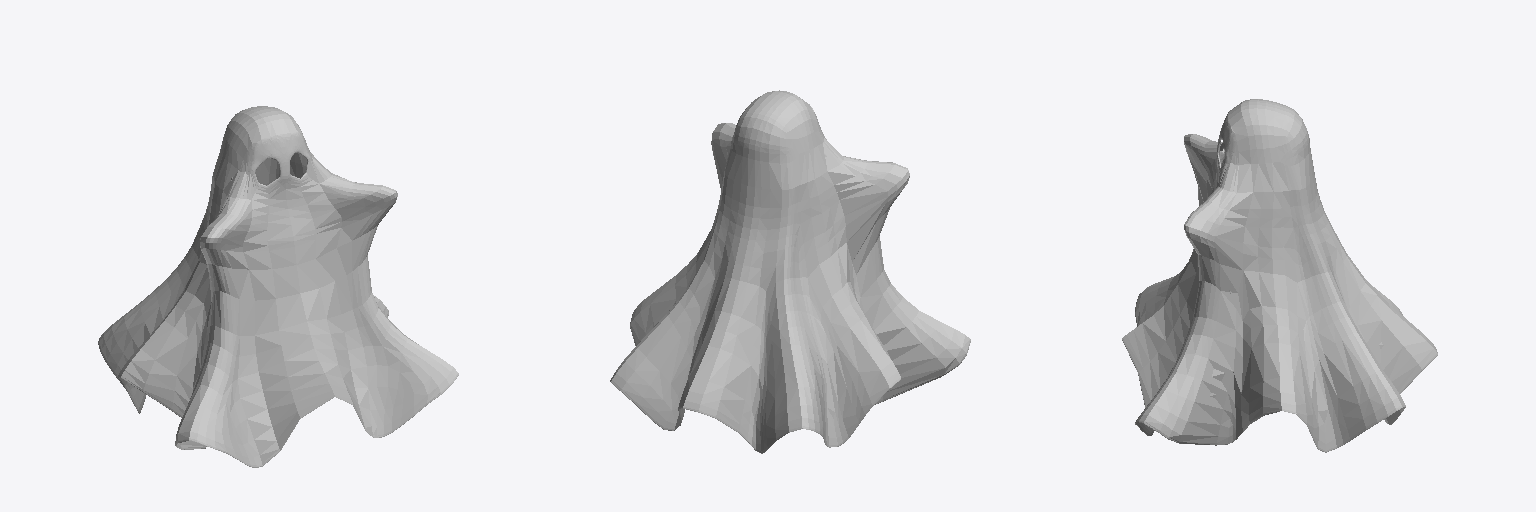
3 views of the same model, side by side, from view 1: azimuth 30°, elevation 25°; view 2: azimuth 150°, elevation 25°; view 3: azimuth 270°, elevation 25° (orthographic).
Parts seen in each view (by area): view 1: youlinguu2:Group3 walk1; view 2: youlinguu2:Group3 walk1; view 3: youlinguu2:Group3 walk1.
Boxes of the visible parts, <box> form: youlinguu2:Group3 walk1: <box>98,106,458,467</box>; youlinguu2:Group3 walk1: <box>610,90,970,453</box>; youlinguu2:Group3 walk1: <box>1122,99,1437,452</box>.
Size of the model in its own units: 37.35 by 39.19 by 36.97.